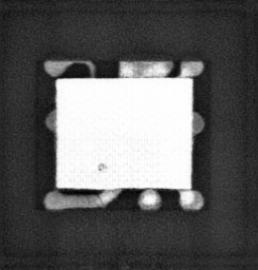DIE_INK: (96, 161, 106, 172)
